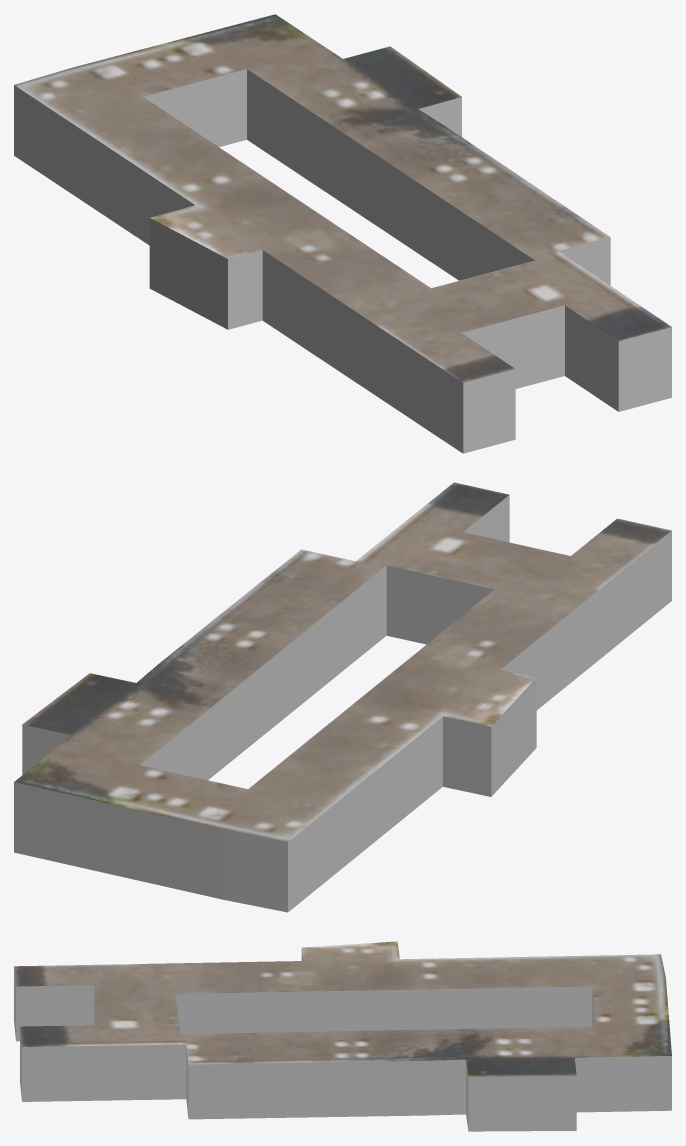
Rendered from DEBW_0010007Tx8P.gltf.
The picture shows the model from 3 angles, top to bottom: view 1: azimuth 30°, elevation 25°; view 2: azimuth 150°, elevation 25°; view 3: azimuth 270°, elevation 25°; orthographic projection. The views are drawn at different scales.
Parts seen in each view (by area): view 1: Z_UP; view 2: Z_UP; view 3: Z_UP.
Part boxes in pixels (<box>): Z_UP: <box>14,14,671,453</box>; Z_UP: <box>14,482,671,912</box>; Z_UP: <box>14,941,671,1131</box>.
Bounding box in the file's own units: 23.56 × 4.45 × 48.4.
Materials: 2 (1 with a texture image).
